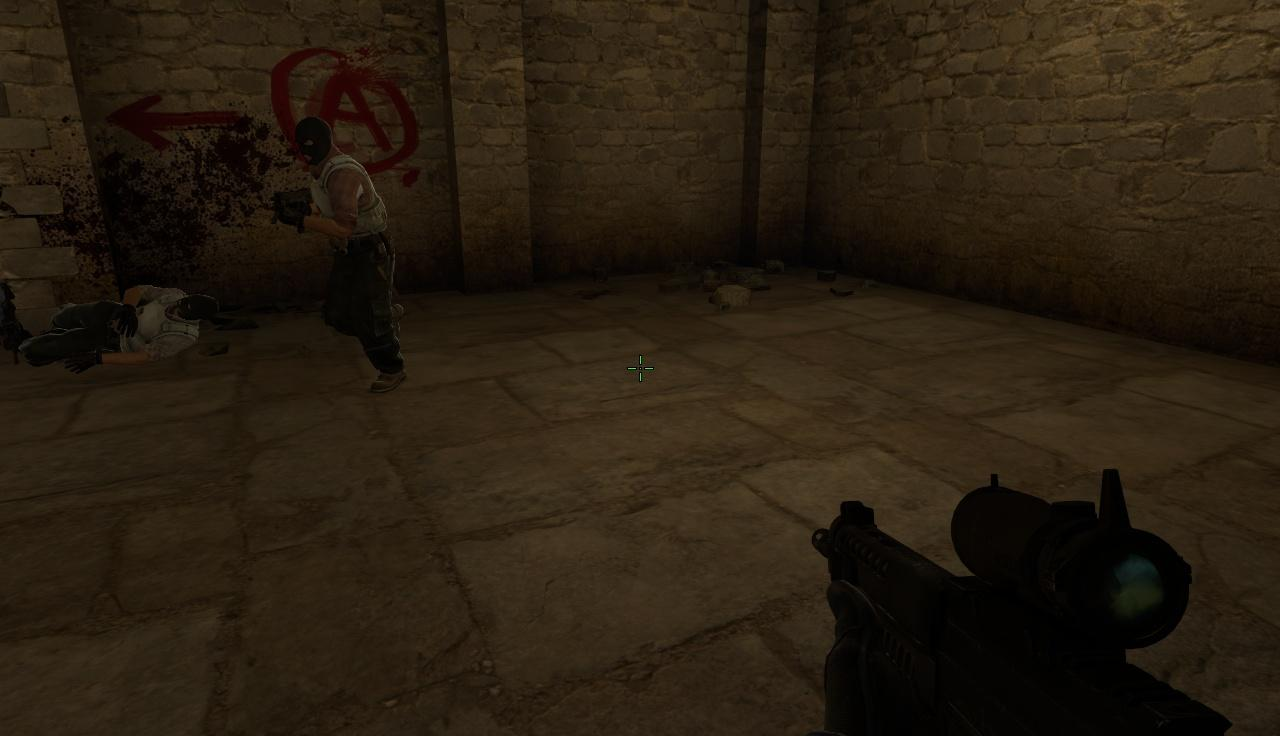rifle: (803, 465, 1280, 736)
tt: (294, 117, 402, 392)
tthead: (295, 118, 332, 166)
